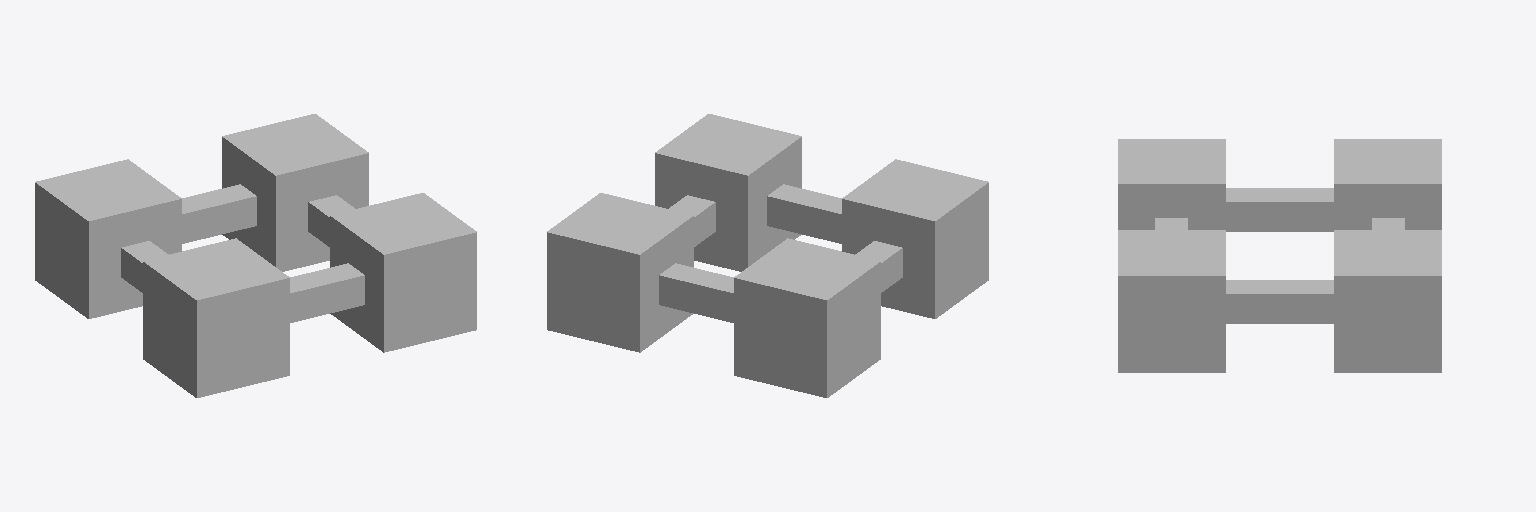
File: MultiCube.obj
The picture shows the model from 3 angles: view 1: azimuth 30°, elevation 25°; view 2: azimuth 150°, elevation 25°; view 3: azimuth 270°, elevation 25°; orthographic projection.
Parts seen in each view (by area): view 1: Mesh1 CUBE1 Model, Mesh4 CUBE4 Model, Mesh2 CUBE2 Model, Mesh8 CUBE8 Model, Mesh5 CUBE5 Model, Mesh6 CUBE6 Model, Mesh7 CUBE7 Model, Mesh3 CUBE3 Model; view 2: Mesh2 CUBE2 Model, Mesh8 CUBE8 Model, Mesh1 CUBE1 Model, Mesh4 CUBE4 Model, Mesh6 CUBE6 Model, Mesh5 CUBE5 Model, Mesh7 CUBE7 Model, Mesh3 CUBE3 Model; view 3: Mesh4 CUBE4 Model, Mesh8 CUBE8 Model, Mesh1 CUBE1 Model, Mesh2 CUBE2 Model, Mesh3 CUBE3 Model, Mesh7 CUBE7 Model.
Boxes of the visible parts, <box> form: Mesh1 CUBE1 Model: <box>143,238,289,397</box>; Mesh4 CUBE4 Model: <box>330,193,476,352</box>; Mesh2 CUBE2 Model: <box>35,159,181,318</box>; Mesh8 CUBE8 Model: <box>222,114,368,271</box>; Mesh5 CUBE5 Model: <box>290,263,364,322</box>; Mesh6 CUBE6 Model: <box>182,184,256,243</box>; Mesh7 CUBE7 Model: <box>308,195,354,246</box>; Mesh3 CUBE3 Model: <box>121,241,168,292</box>; Mesh2 CUBE2 Model: <box>734,238,880,397</box>; Mesh8 CUBE8 Model: <box>547,193,693,352</box>; Mesh1 CUBE1 Model: <box>842,159,988,318</box>; Mesh4 CUBE4 Model: <box>655,114,801,271</box>; Mesh6 CUBE6 Model: <box>659,263,733,322</box>; Mesh5 CUBE5 Model: <box>767,184,841,243</box>; Mesh7 CUBE7 Model: <box>669,195,715,246</box>; Mesh3 CUBE3 Model: <box>855,241,902,292</box>; Mesh4 CUBE4 Model: <box>1118,230,1225,372</box>; Mesh8 CUBE8 Model: <box>1334,230,1441,372</box>; Mesh1 CUBE1 Model: <box>1118,139,1225,229</box>; Mesh2 CUBE2 Model: <box>1334,139,1441,229</box>; Mesh3 CUBE3 Model: <box>1226,188,1333,231</box>; Mesh7 CUBE7 Model: <box>1226,280,1333,323</box>.
Size of the model in its own units: 11.73 by 3.91 by 11.73.